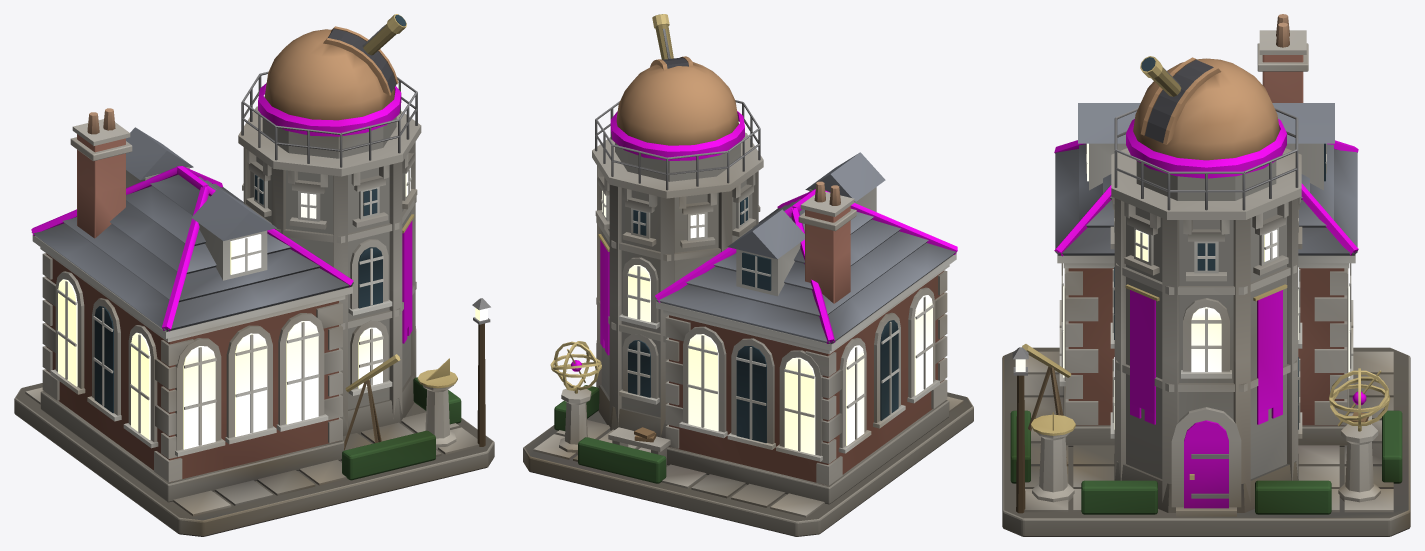
The model's file is tech_center_gunpowder.glb.
3 views of the same model, side by side, from view 1: azimuth 30°, elevation 25°; view 2: azimuth 150°, elevation 25°; view 3: azimuth 270°, elevation 25° (orthographic). The views are drawn at different scales.
Visible parts, largest first — view 1: Body; view 2: Body; view 3: Body.
Part boxes in pixels (x1,y1,x2,y2): Body: (14, 14, 494, 536); Body: (523, 14, 973, 536); Body: (1002, 14, 1410, 536).
Size of the model in its own units: 4 by 4.95 by 4.
Materials: 1 (1 with a texture image).
